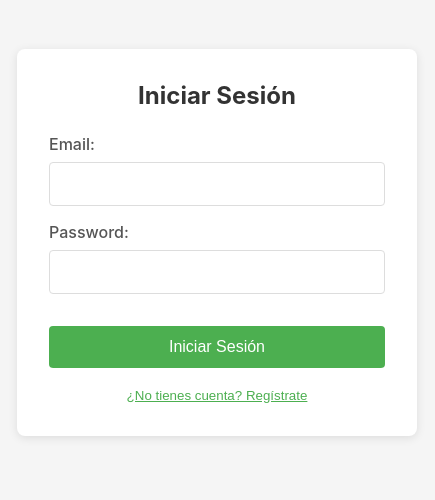
it: Login Component › muestra formulario de registro al cambiar modo
# Click en botón para cambiar a registro
Click the button "¿No tienes cuenta? Regístrate": point(217, 395) [127,388,307,402]
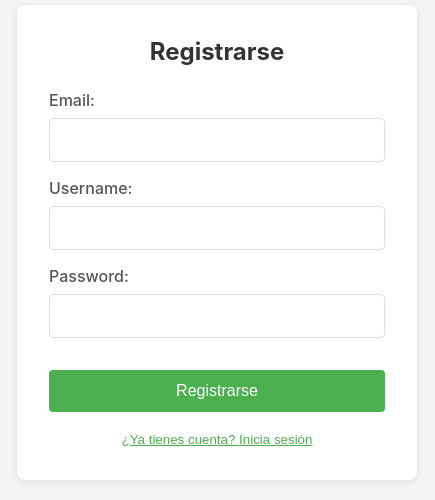
Expected: the heading "Registrarse" is shown, [150,36,284,66]
Expected: the field labelled "Username:" is shown, [49,206,385,250]
